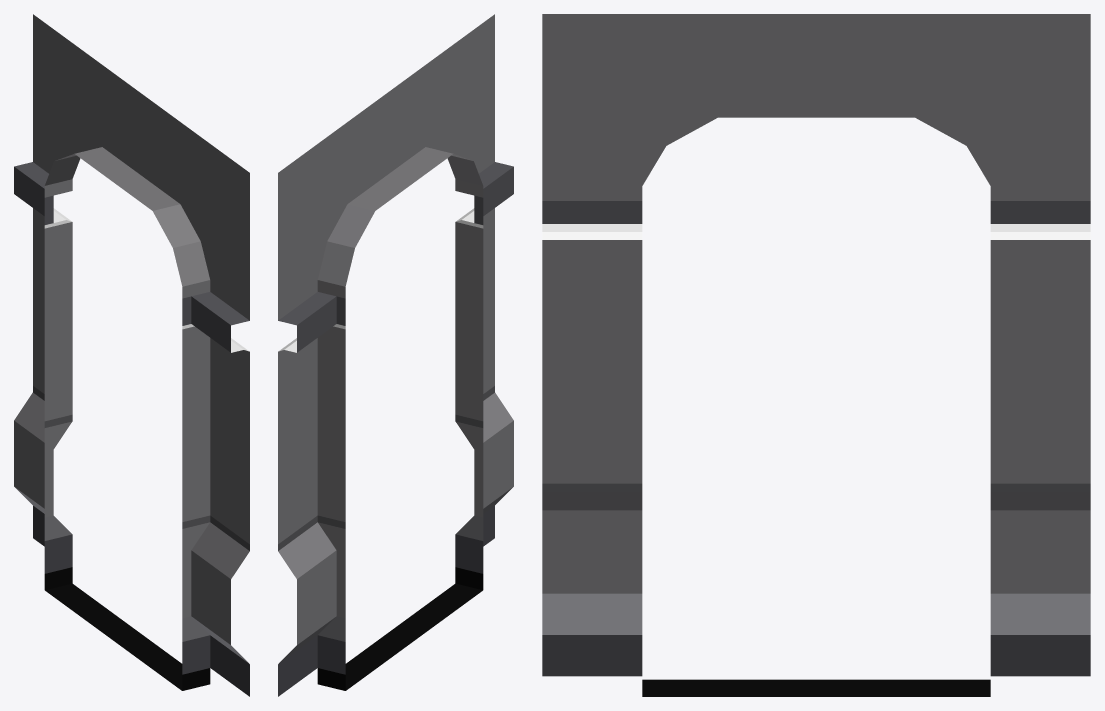
File: Wall Door.fbx
3 views of the same model, side by side, from view 1: azimuth 30°, elevation 25°; view 2: azimuth 150°, elevation 25°; view 3: azimuth 270°, elevation 25° (orthographic). The views are drawn at different scales.
Parts seen in each view (by area): view 1: Wall Door; view 2: Wall Door; view 3: Wall Door.
Part boxes in pixels (x1,y1,x2,y2): Wall Door: (14,14,249,696); Wall Door: (278,14,513,696); Wall Door: (542,14,1090,696).
Size of the model in its own units: 14.84 by 275 by 200.
